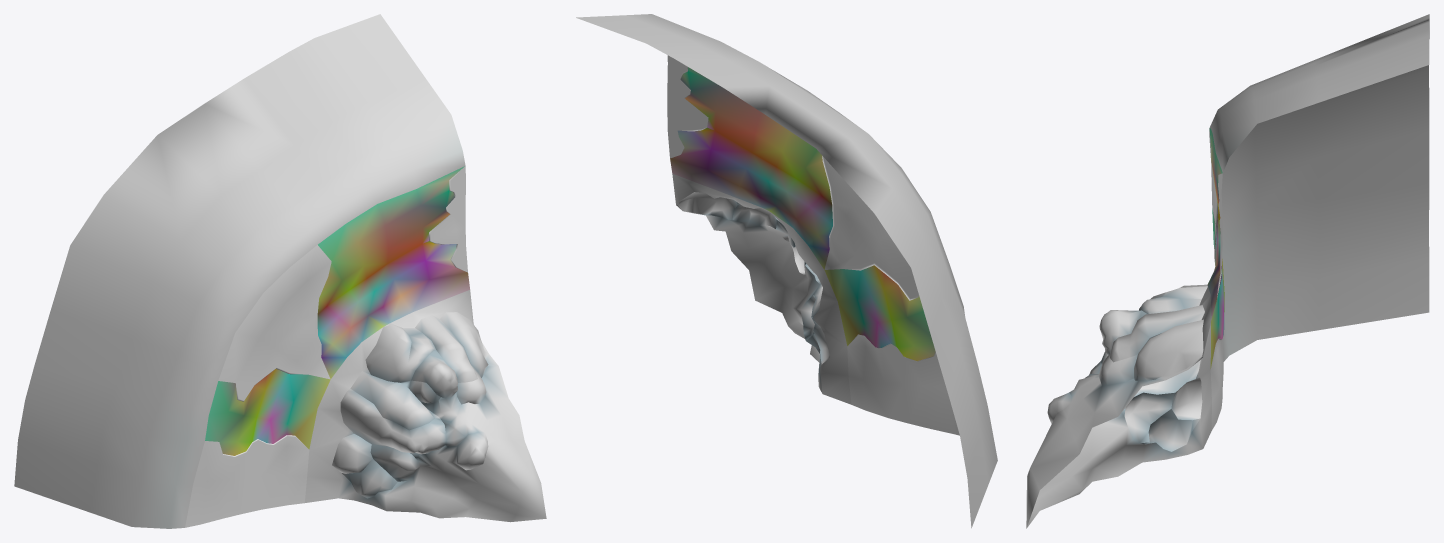
The model's file is Snow_CurveOutC.glb.
3 renders of one model, left to right at view 1: azimuth 30°, elevation 25°; view 2: azimuth 150°, elevation 25°; view 3: azimuth 270°, elevation 25°, orthographic. The views are drawn at different scales.
Parts seen in each view (by area): view 1: MeshNode_1, MeshNode_0, MeshNode_2; view 2: MeshNode_1, MeshNode_0, MeshNode_2; view 3: MeshNode_1, MeshNode_0, MeshNode_2.
Boxes of the visible parts, x1,y1,x2,y2 form: MeshNode_1: [14, 14, 546, 528]; MeshNode_0: [205, 166, 469, 455]; MeshNode_2: [185, 166, 467, 527]; MeshNode_1: [576, 14, 997, 528]; MeshNode_0: [670, 67, 935, 361]; MeshNode_2: [667, 55, 959, 435]; MeshNode_1: [1026, 14, 1429, 528]; MeshNode_0: [1208, 128, 1224, 368]; MeshNode_2: [1209, 128, 1223, 430].
Size of the model in its own units: 105 by 105 by 82.72.
